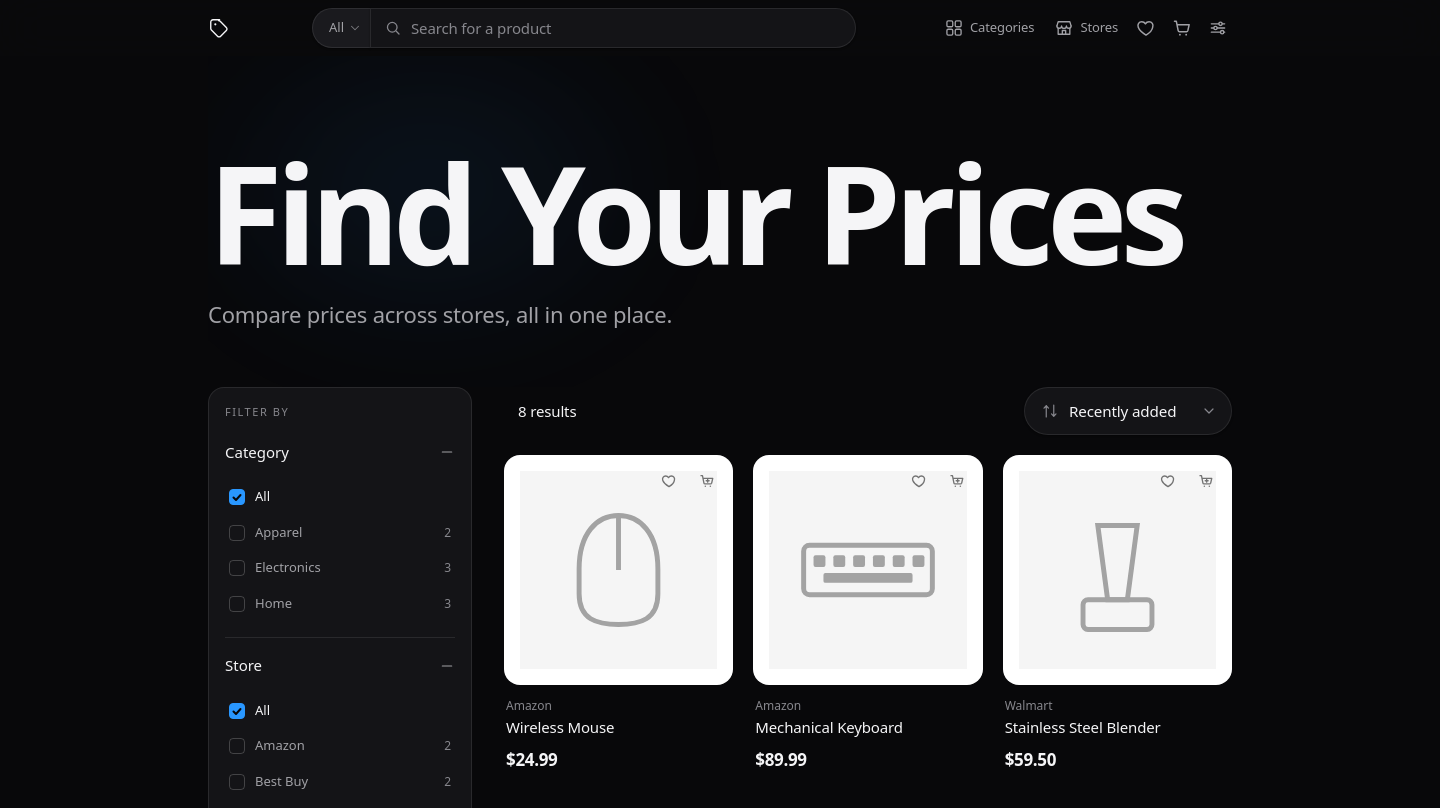
Test case: Home /en (inglés) › contrato de accesibilidad › expone un LocaleSwitcher con enlaces EN/ES alcanzables por nombre
Click the button named "Preferences": point(1218, 28) [1200,10,1236,46]
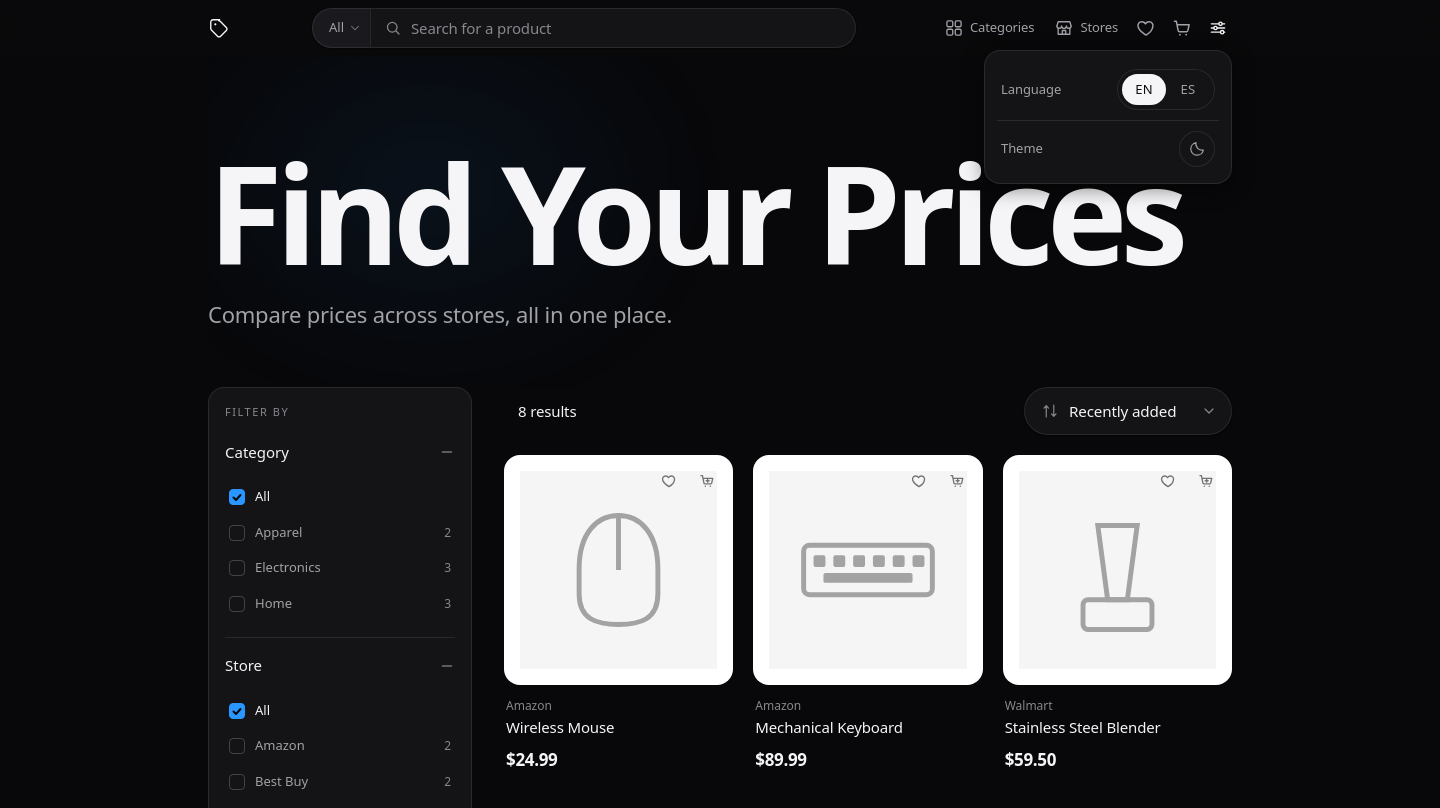
Expected: the link "EN" is shown, [1135,80,1153,98]
Expected: the link "ES" is shown, [1180,80,1195,98]
